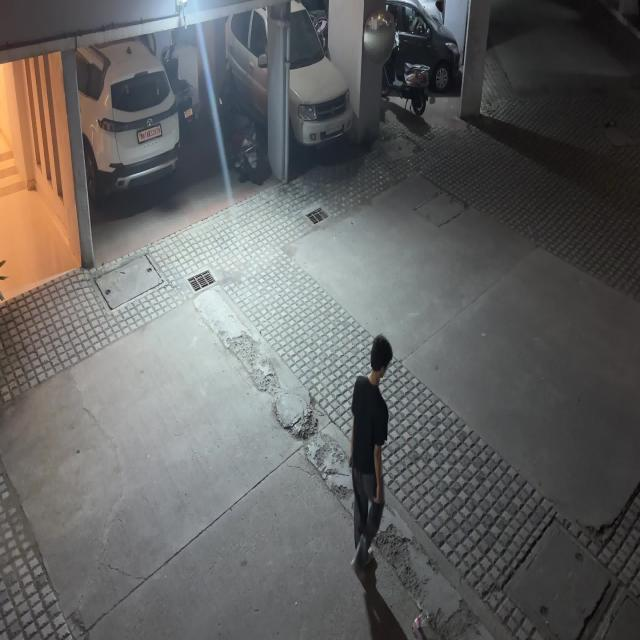human: (338, 304, 396, 572)
trash: (409, 605, 431, 638)
